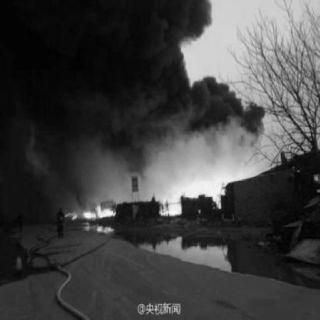Fire: (71, 127, 273, 231)
